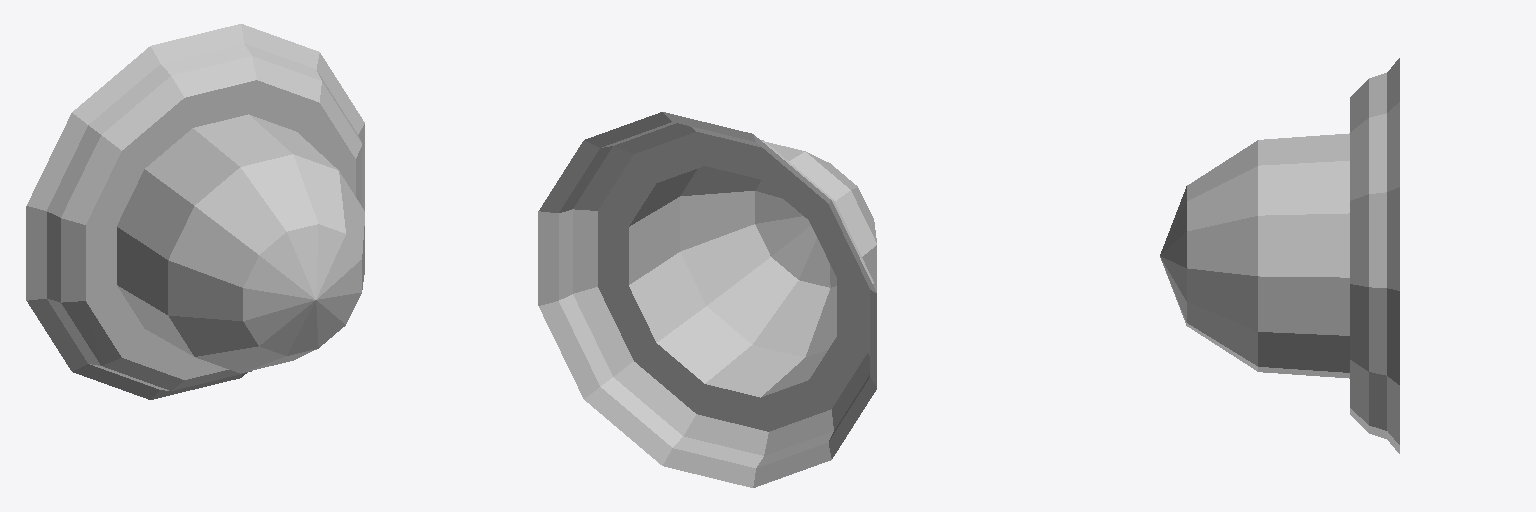
The model's file is original-53.obj.
3 renders of one model, left to right at view 1: azimuth 30°, elevation 25°; view 2: azimuth 150°, elevation 25°; view 3: azimuth 270°, elevation 25°, orthographic.
Parts seen in each view (by area): view 1: mesh36/mesh36-geometry#mesh36-geometry; view 2: mesh36/mesh36-geometry#mesh36-geometry; view 3: mesh36/mesh36-geometry#mesh36-geometry.
Boxes of the visible parts, x1,y1,x2,y2 form: mesh36/mesh36-geometry#mesh36-geometry: [26, 24, 364, 399]; mesh36/mesh36-geometry#mesh36-geometry: [538, 112, 876, 487]; mesh36/mesh36-geometry#mesh36-geometry: [1160, 58, 1399, 453].
Bounding box in the file's own units: 0.0178 × 0.0178 × 0.011.